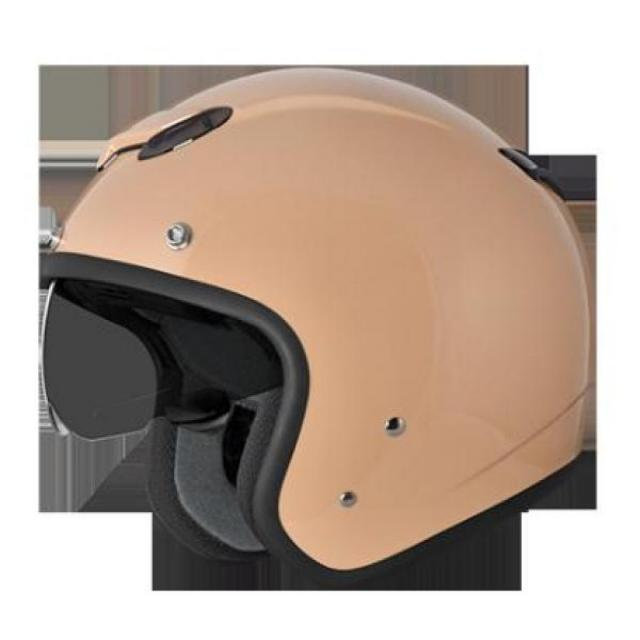Helmet: (44, 74, 580, 543)
